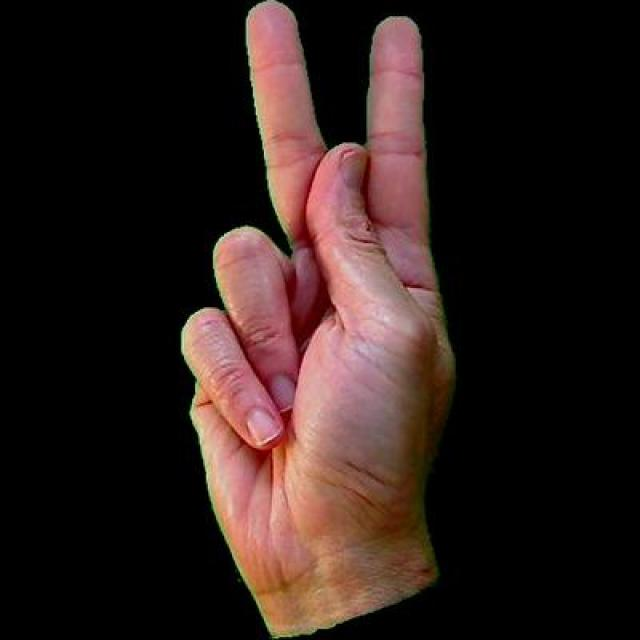k: (166, 0, 460, 637)
